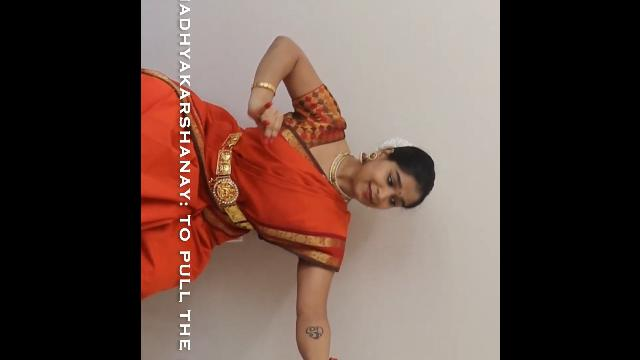mushti: (278, 334, 366, 360)
